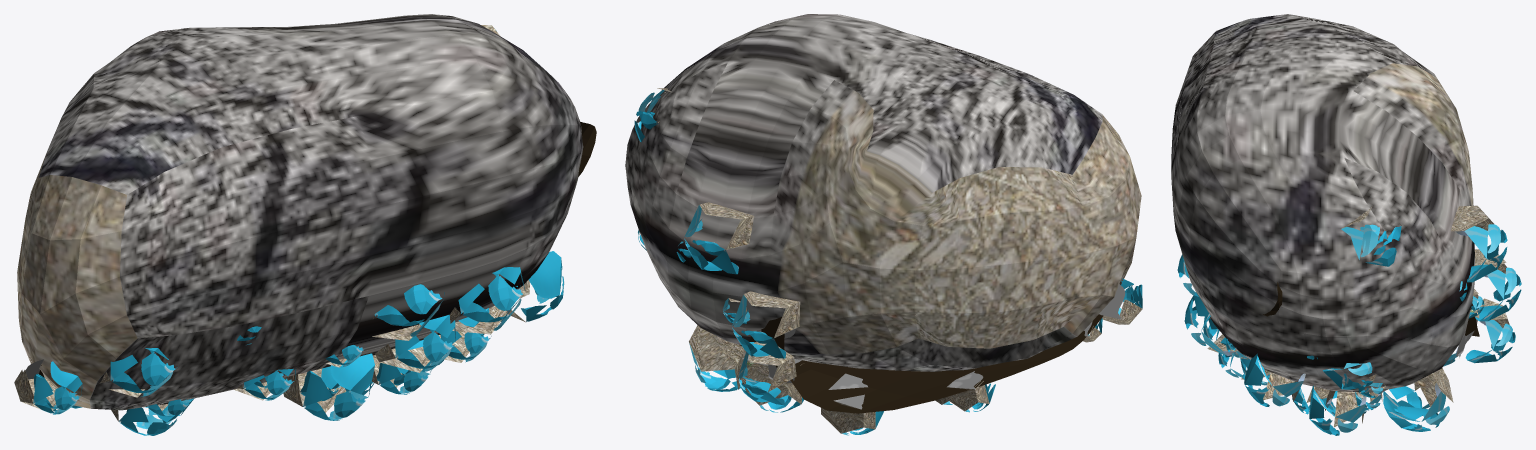
Rendered from iron2.obj.
3 views of the same model, side by side, from view 1: azimuth 30°, elevation 25°; view 2: azimuth 150°, elevation 25°; view 3: azimuth 270°, elevation 25° (orthographic). The views are drawn at different scales.
Parts seen in each view (by area): view 1: Cube, Cube.001_Cube.002, crystal_substrate_Cube.001; view 2: Cube, Cube.001_Cube.002, crystal_substrate_Cube.001; view 3: Cube, Cube.001_Cube.002, crystal_substrate_Cube.001.
Part boxes in pixels (left/top/right/bottom): Cube: left=17, top=14, right=583, bottom=410; Cube.001_Cube.002: left=14, top=25, right=564, bottom=435; crystal_substrate_Cube.001: left=39, top=121, right=596, bottom=377; Cube: left=625, top=14, right=1141, bottom=371; Cube.001_Cube.002: left=634, top=88, right=1142, bottom=435; crystal_substrate_Cube.001: left=739, top=314, right=1103, bottom=413; Cube: left=1171, top=14, right=1474, bottom=392; Cube.001_Cube.002: left=1177, top=205, right=1521, bottom=435; crystal_substrate_Cube.001: left=1263, top=282, right=1479, bottom=336.
Bounding box in the file's own units: 3.39 × 2.26 × 2.21.
3 materials, 2 textured.
